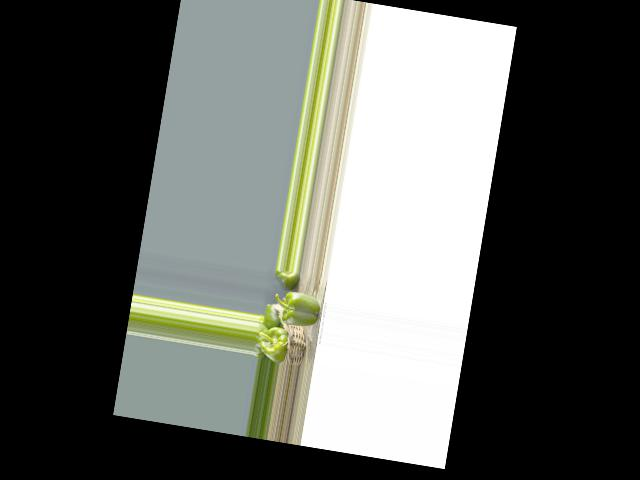bell_pepper: (274, 268, 296, 285)
